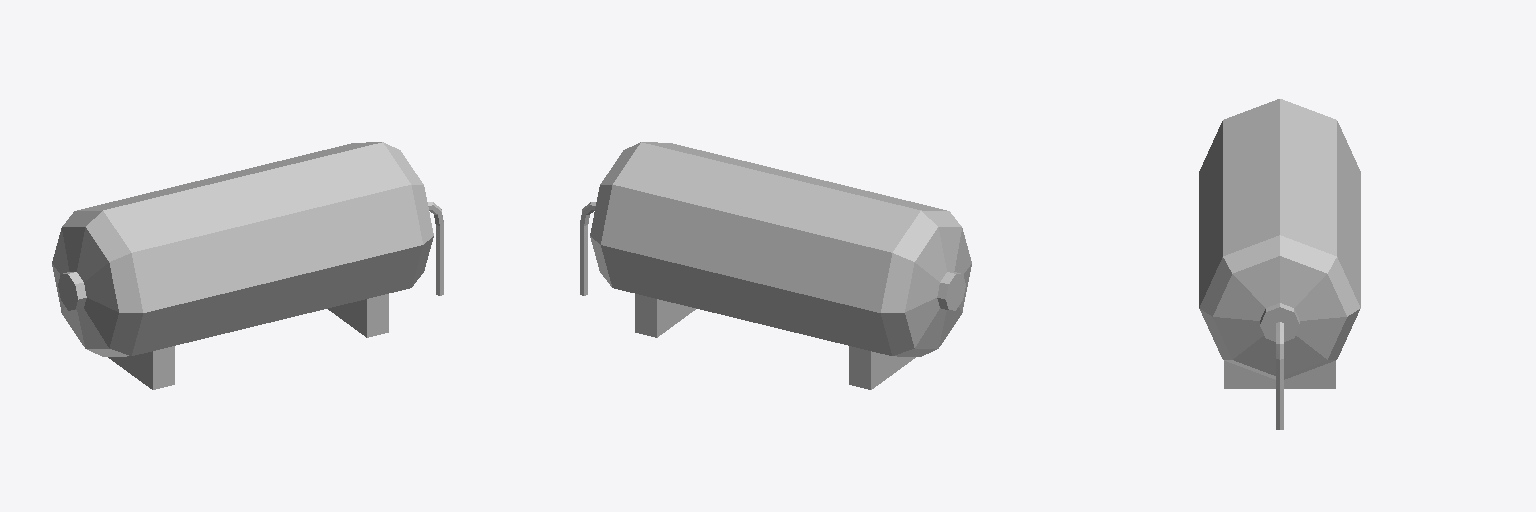
Rendered from Big_Cylinder.obj.
3 views of the same model, side by side, from view 1: azimuth 30°, elevation 25°; view 2: azimuth 150°, elevation 25°; view 3: azimuth 270°, elevation 25° (orthographic).
Visible parts, largest first — view 1: Big_Cylinder_Cylinder.006; view 2: Big_Cylinder_Cylinder.006; view 3: Big_Cylinder_Cylinder.006.
Boxes of the visible parts, x1=… form: Big_Cylinder_Cylinder.006: x1=52, y1=142, x2=443, y2=389; Big_Cylinder_Cylinder.006: x1=580, y1=142, x2=971, y2=389; Big_Cylinder_Cylinder.006: x1=1199, y1=99, x2=1360, y2=429.
Bounding box in the file's own units: 5.37 × 2.26 × 2.